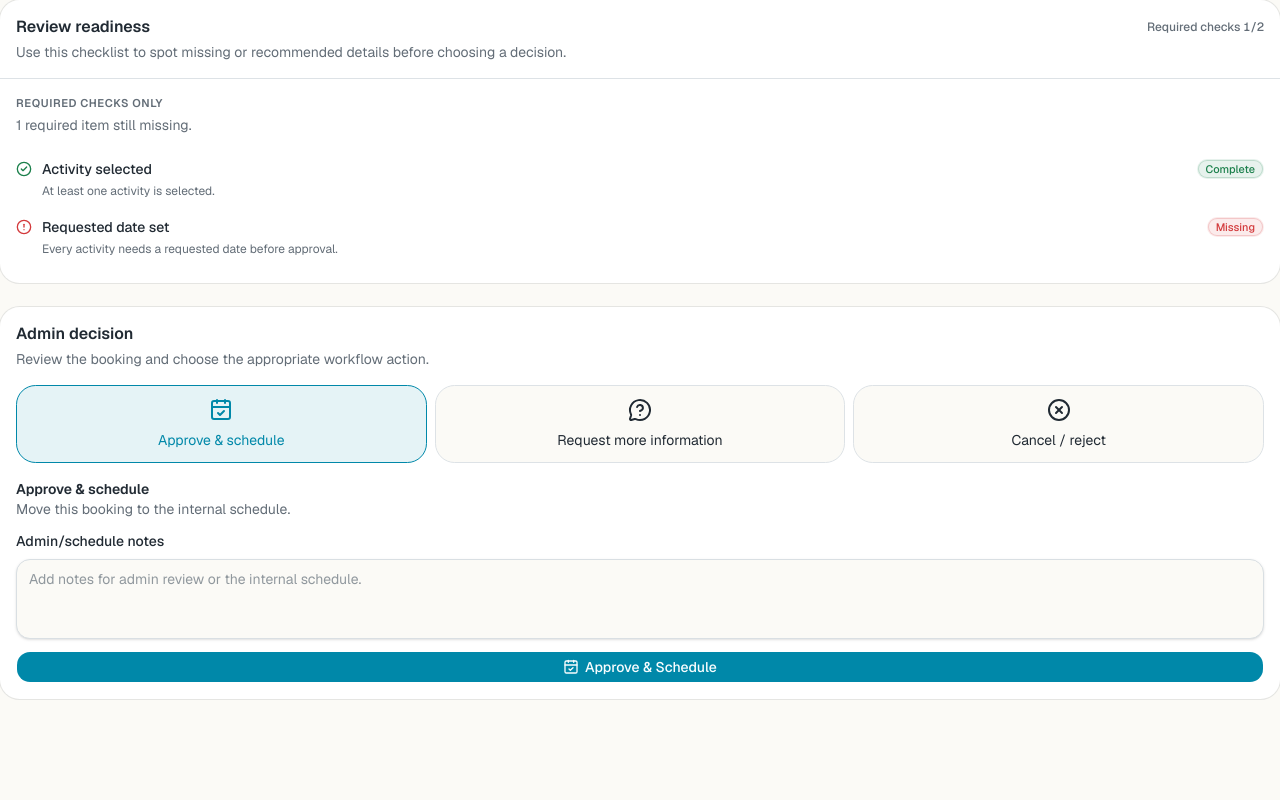
switches the admin decision panel to cancellation only
The image size is (1280, 800).
What coordinates should you click on to do the following:
click the button "Cancel / reject"
I would click on:
 (1059, 424)
Its box is [853,385,1264,463].
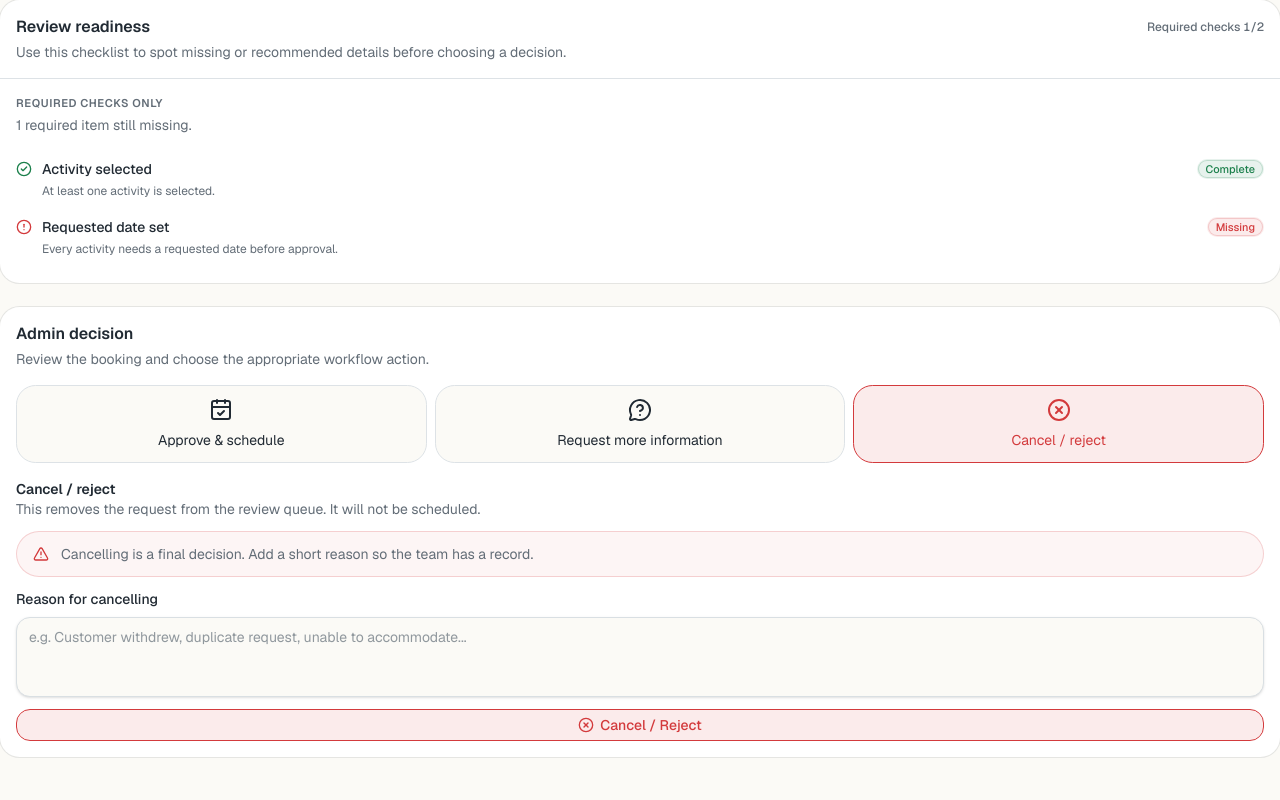
Expected: the button "Cancel / Reject" is shown, [16,709,1264,741]
Expected: the text "This removes the request from the review queue. It will not be scheduled." is shown, [16,500,480,518]
Expected: the text box labelled "Reason for cancelling" is shown, [16,617,1264,697]
